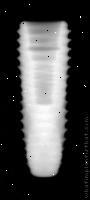Cowellmedi: (16, 21, 70, 179)
